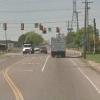Car: (36, 42, 49, 56)
